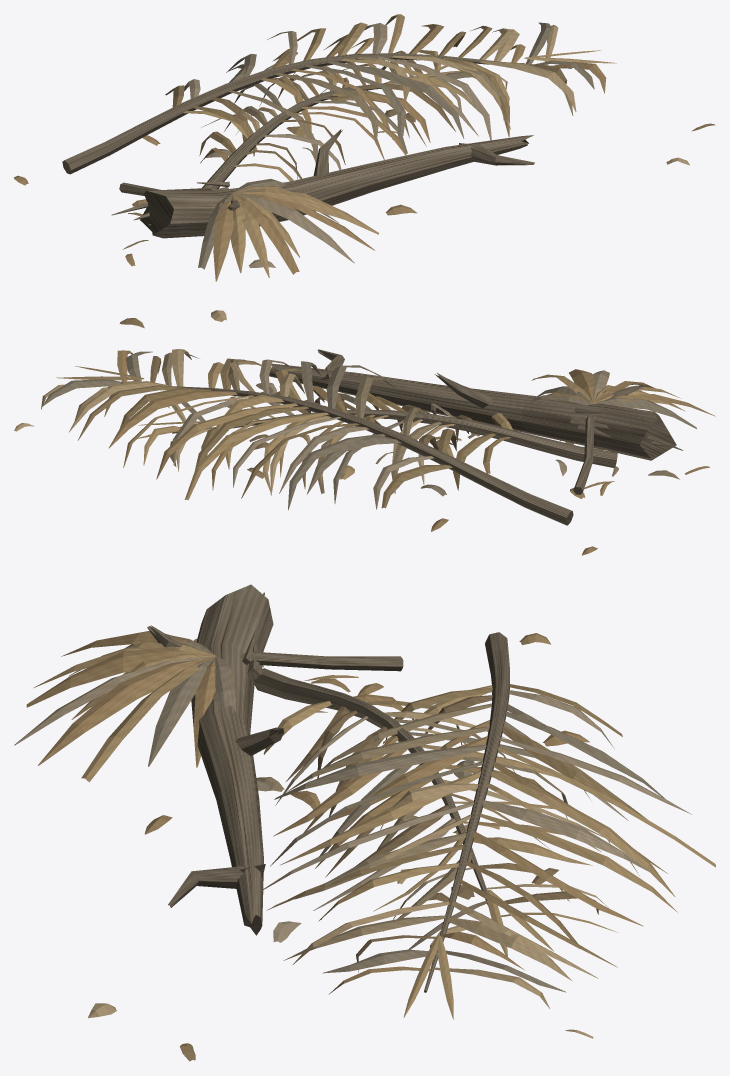
The model's file is nb_palm_debris.glb.
3 renders of one model, top to bottom at view 1: azimuth 30°, elevation 25°; view 2: azimuth 150°, elevation 25°; view 3: azimuth 270°, elevation 25°, orthographic. The views are drawn at different scales.
Visible parts, largest first — view 1: Fallen_Palm_Debris_Pile; view 2: Fallen_Palm_Debris_Pile; view 3: Fallen_Palm_Debris_Pile.
Boxes of the visible parts, x1,y1,x2,y2 form: Fallen_Palm_Debris_Pile: [14, 14, 715, 281]; Fallen_Palm_Debris_Pile: [14, 310, 715, 555]; Fallen_Palm_Debris_Pile: [14, 584, 715, 1061].
Size of the model in its own units: 3.21 by 0.353 by 2.25.
Materials: 1 (1 with a texture image).
